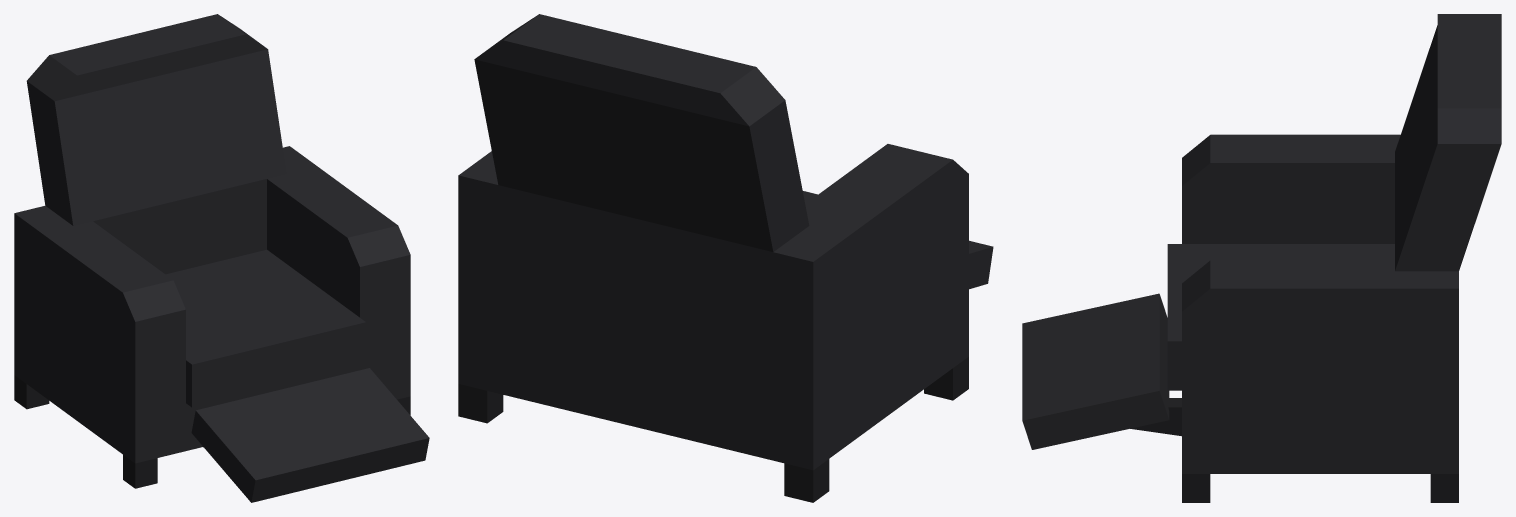
Rendered from pk_recl_black.glb.
The picture shows the model from 3 angles, left to right: view 1: azimuth 30°, elevation 25°; view 2: azimuth 150°, elevation 25°; view 3: azimuth 270°, elevation 25°; orthographic projection. The views are drawn at different scales.
Parts seen in each view (by area): view 1: pk_recl_black; view 2: pk_recl_black; view 3: pk_recl_black.
Boxes of the visible parts, <box> form: pk_recl_black: <box>14,14,429,502</box>; pk_recl_black: <box>458,14,993,502</box>; pk_recl_black: <box>1022,14,1501,502</box>.
Bounding box in the file's own units: 0.95 × 1.05 × 1.25.
1 material, 1 textured.
